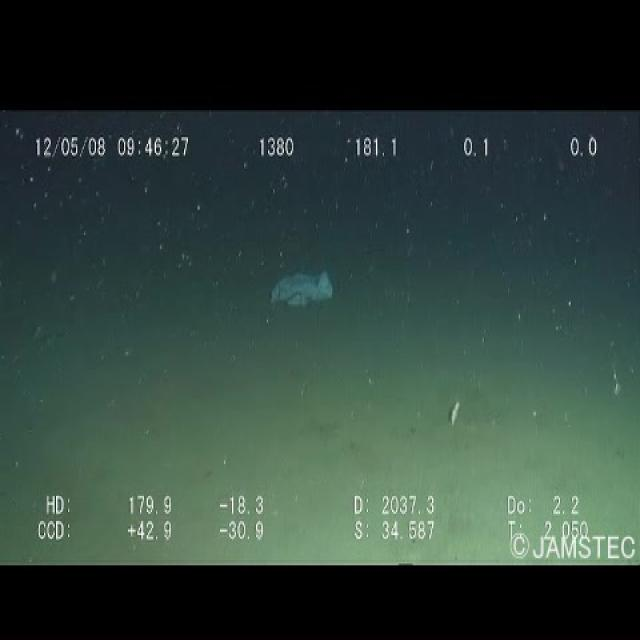plastic: (264, 265, 340, 309)
